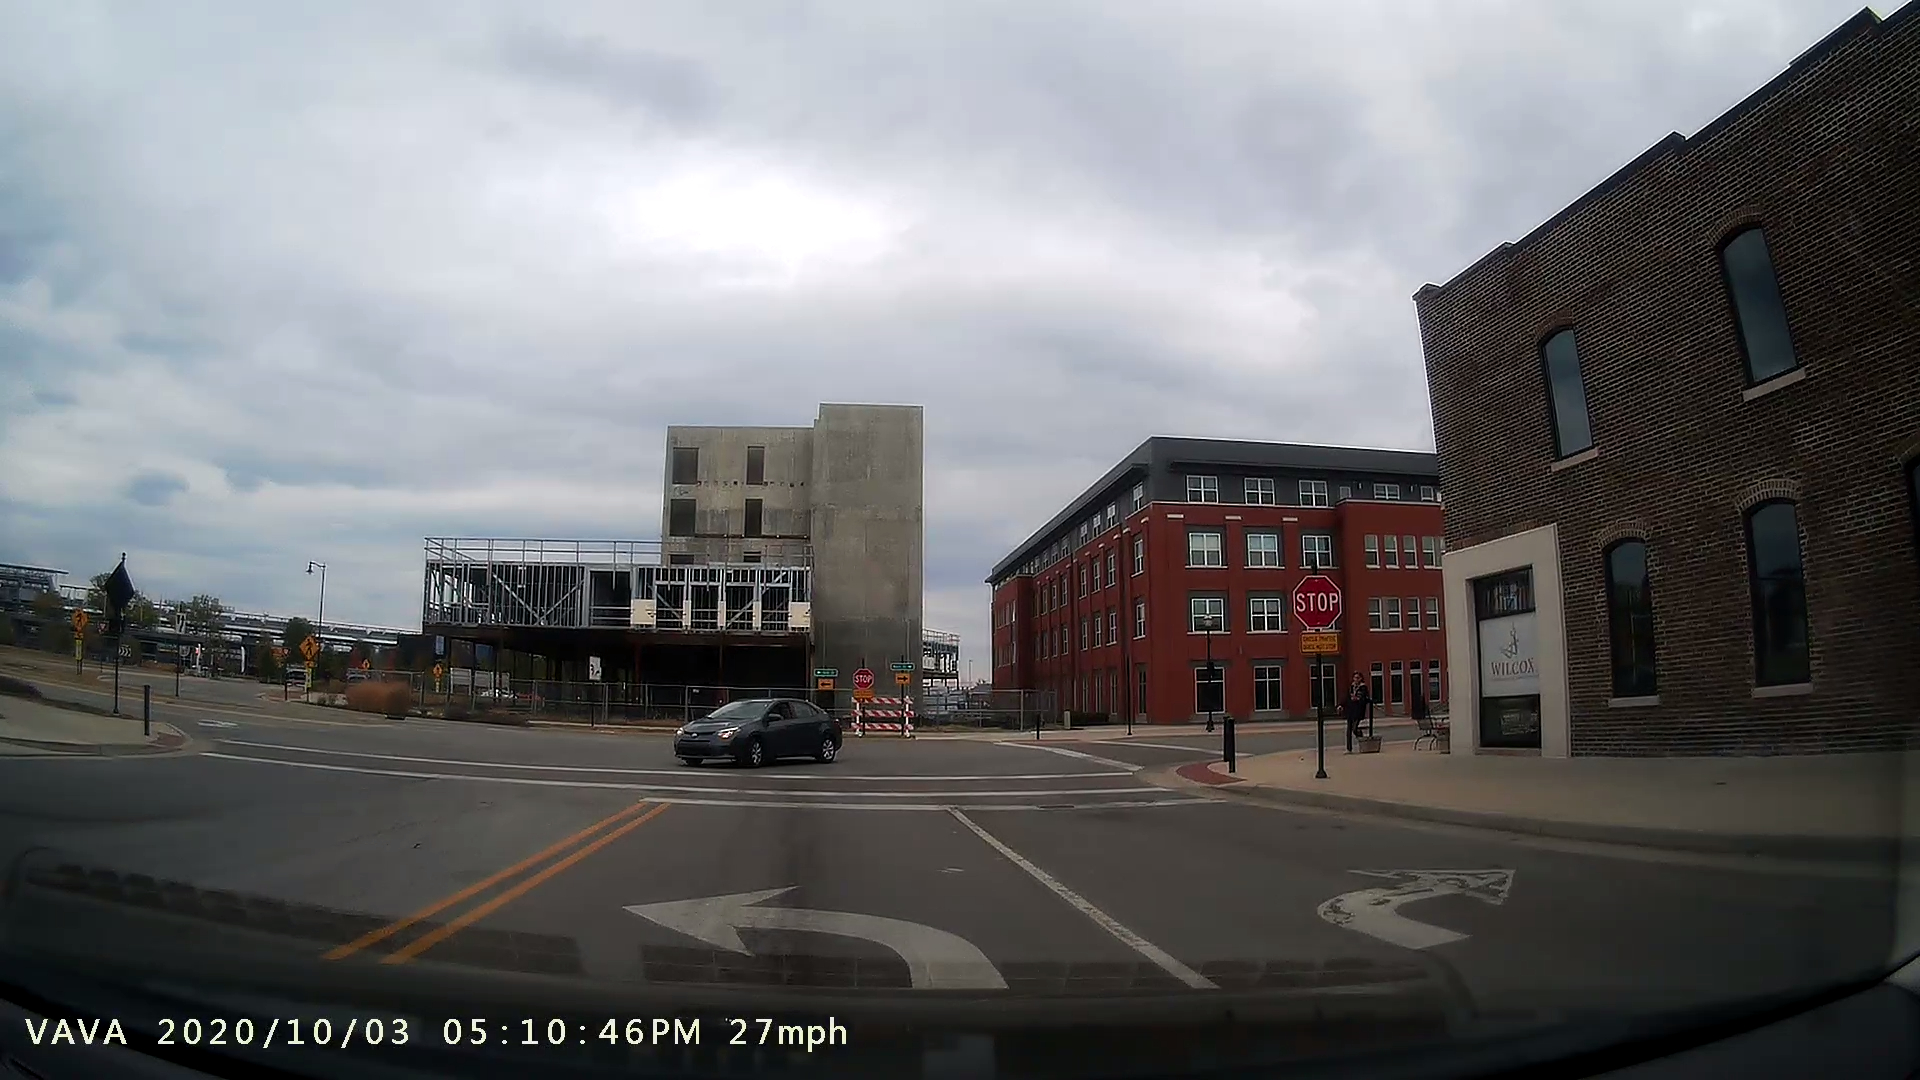left_turn: (611, 864, 1007, 986)
right_turn: (1309, 845, 1544, 969)
